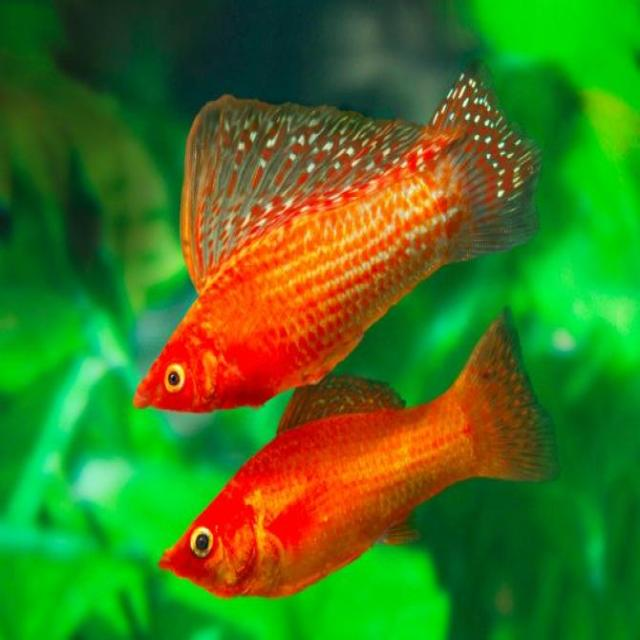PlatyFish: (127, 32, 556, 421), (135, 293, 564, 618)
